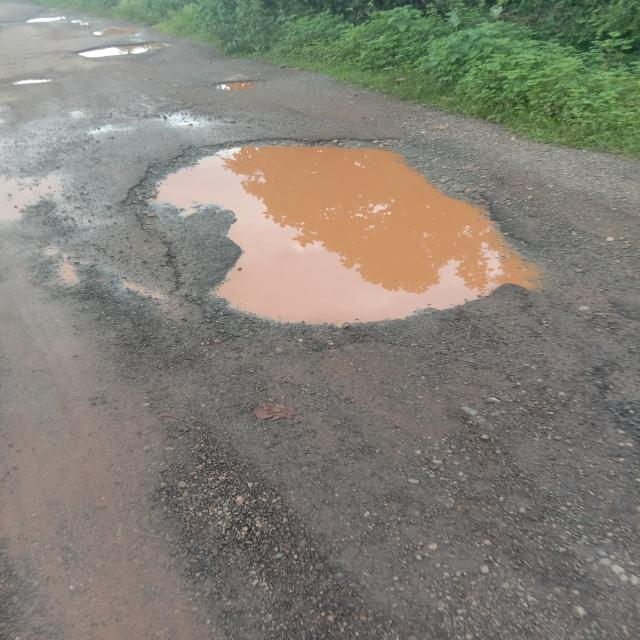potholes: (118, 134, 534, 329), (74, 38, 174, 72), (22, 12, 103, 38), (211, 76, 270, 99), (7, 74, 58, 90)
